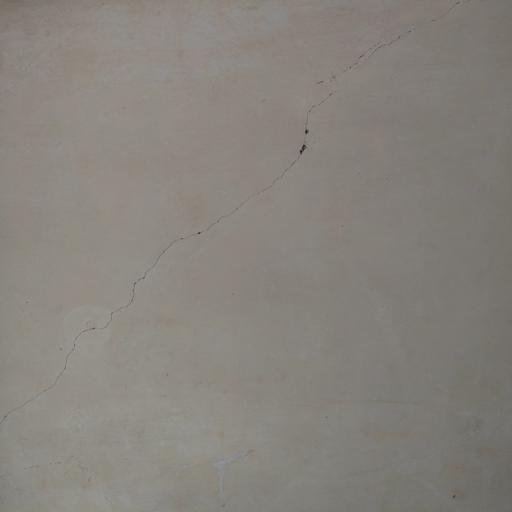minor_crack: (0, 0, 453, 433)
